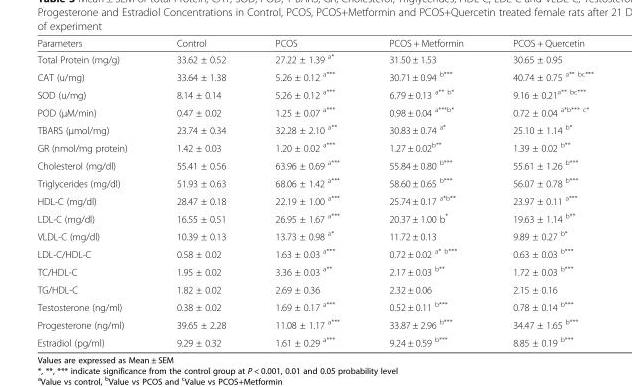table: (36, 36, 592, 348)
table column: (363, 36, 487, 348), (36, 36, 151, 348), (249, 36, 363, 348), (487, 36, 592, 348), (151, 36, 249, 348)
table column header: (36, 36, 592, 50)
table row: (36, 84, 592, 102), (36, 102, 592, 120), (36, 120, 592, 138), (36, 155, 592, 173), (36, 173, 592, 191), (36, 208, 592, 226), (36, 226, 592, 244), (36, 244, 592, 262), (36, 262, 592, 280), (36, 297, 592, 315), (36, 50, 592, 67), (36, 67, 592, 84), (36, 138, 592, 155), (36, 191, 592, 208), (36, 280, 592, 297), (36, 315, 592, 332), (36, 332, 592, 348), (36, 36, 592, 50)
